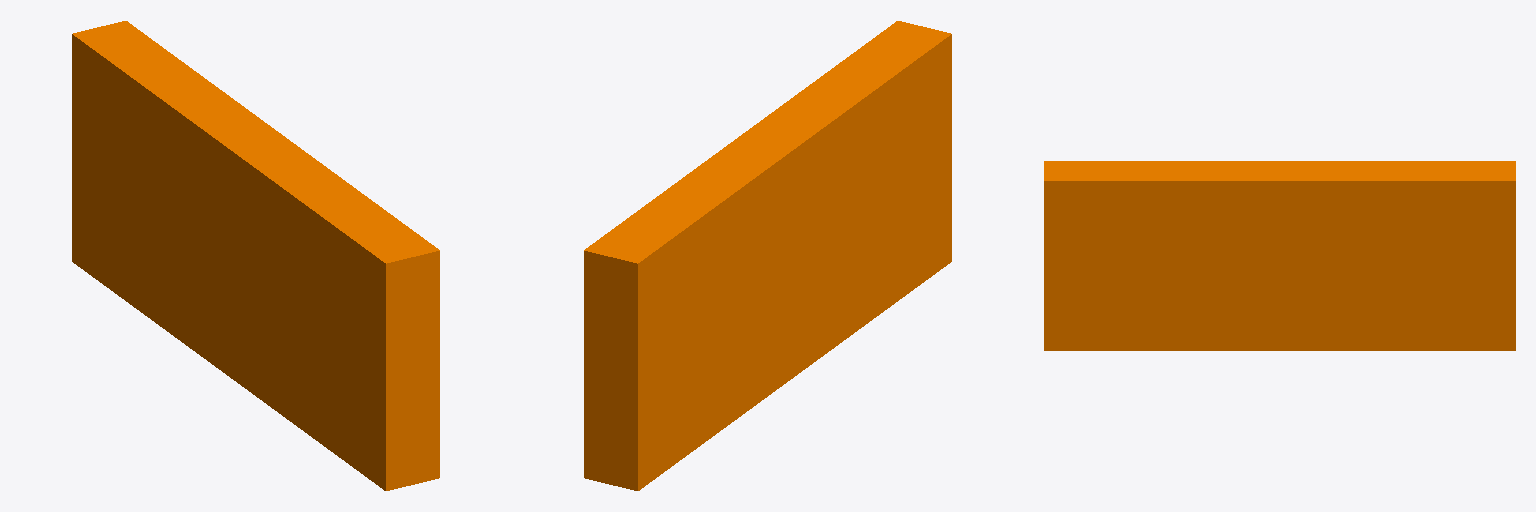
URDF robot description (wall_back_upper):
<?xml version="0.0" ?>
<robot name="wall_back_upper">
  <link name="base_link">
    <inertial>
      <origin rpy="0 0 0" xyz="0 0 0"/>
       <mass value=".1"/>
       <inertia ixx="1" ixy="0" ixz="0" iyy="1" iyz="0" izz="1"/>
    </inertial>
    
    <visual>
      <origin rpy="0 0 0" xyz="0 0 0"/>
      <geometry>
        <box size="0.1 1.0 0.4"/>
      </geometry>
      <material name="darkorange">
        <color rgba="1.0 0.549 0.0 1.0"/>
      </material>
    </visual>
  </link>
</robot>

--- What the picture shows (computed from the rendered views, not written in the file) ---
3 views of the same robot in one strip: view 1: azimuth 30°, elevation 25°; view 2: azimuth 150°, elevation 25°; view 3: azimuth 270°, elevation 25° (orthographic).
Model wall_back_upper with 1 links and 0 joints (none), rooted at base_link, posed all joints at 0.
Visible links, largest first — view 1: base_link; view 2: base_link; view 3: base_link.
Link boxes in pixels (x1,y1,x2,y2): base_link: (72,21,439,490); base_link: (584,21,951,490); base_link: (1044,161,1515,350).
Size in the robot's own frame: 0.1 by 1 by 0.4 metres.
Geometry: primitives only (box / cylinder / sphere), no mesh files.